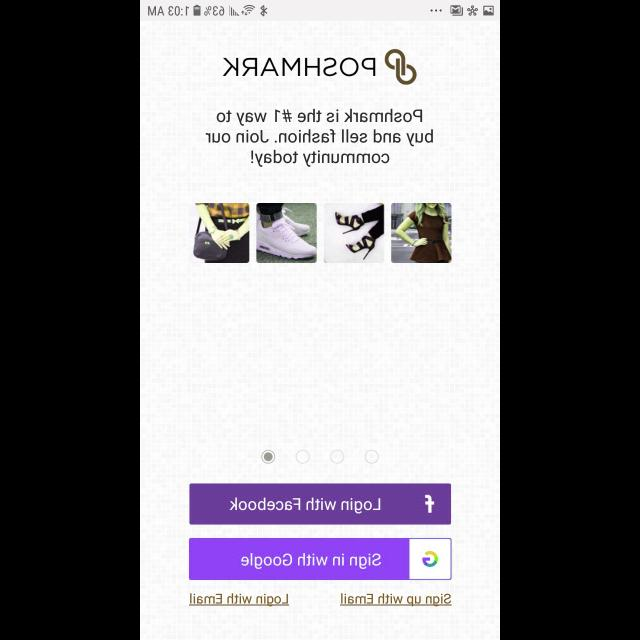image: (188, 203, 250, 263), (391, 203, 452, 263), (324, 203, 384, 263), (256, 203, 316, 263), (384, 49, 416, 86)
pageindicator: (261, 450, 379, 464)
text: (205, 109, 433, 168), (222, 58, 376, 78), (340, 593, 452, 607), (189, 593, 289, 607)
textbutton: (189, 538, 451, 580), (190, 484, 450, 524)
uppertaskbar: (140, 1, 500, 22)
